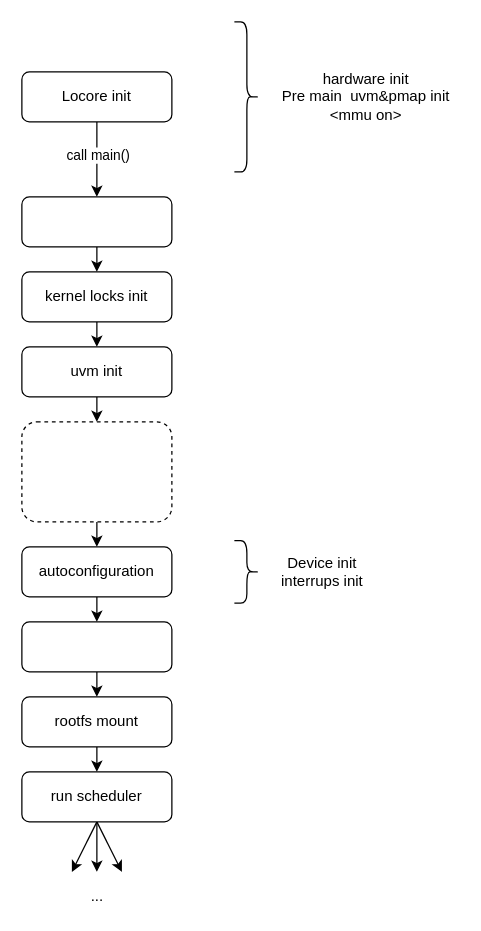
Image size: 481x931. Some labels were removed from this diagram. Each missing label, with the centre of its shape:
"create init proc" belongs at point (96, 646).
"early cons init" belongs at point (96, 221).
"Kernel systems init ..." belongs at point (96, 471).
